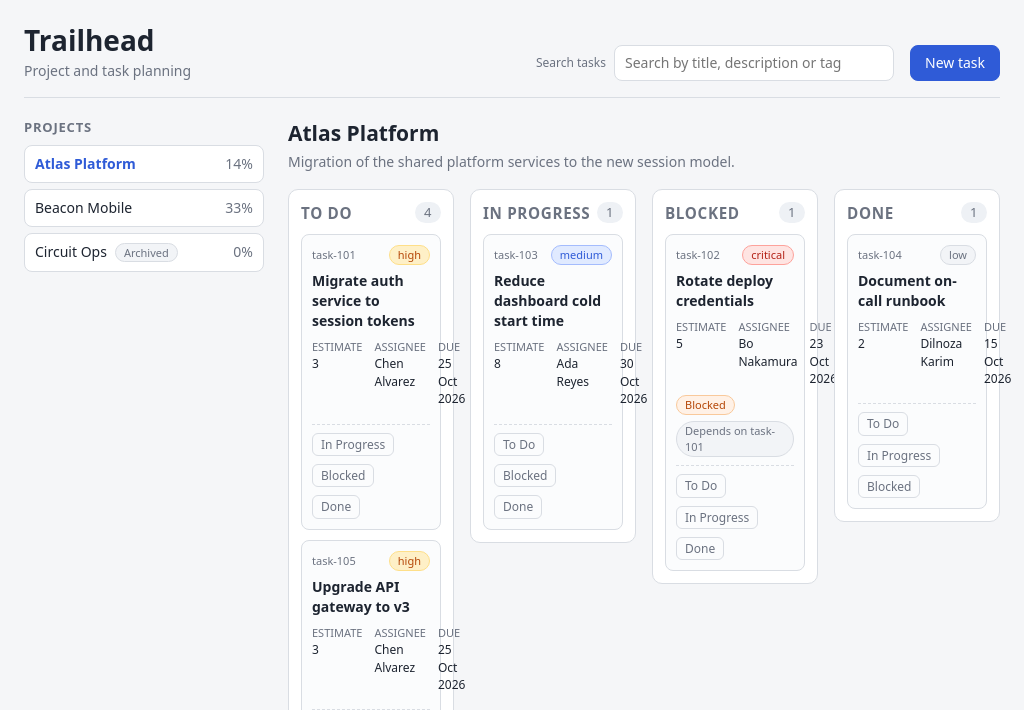
Test: task search › finds tasks by tag
Expected: the element with test id "task-card-task-101" is shown, [301,234,441,530]
In the search field labelled "Search tasks": (754, 63) [614,45,894,81], type "reporting"
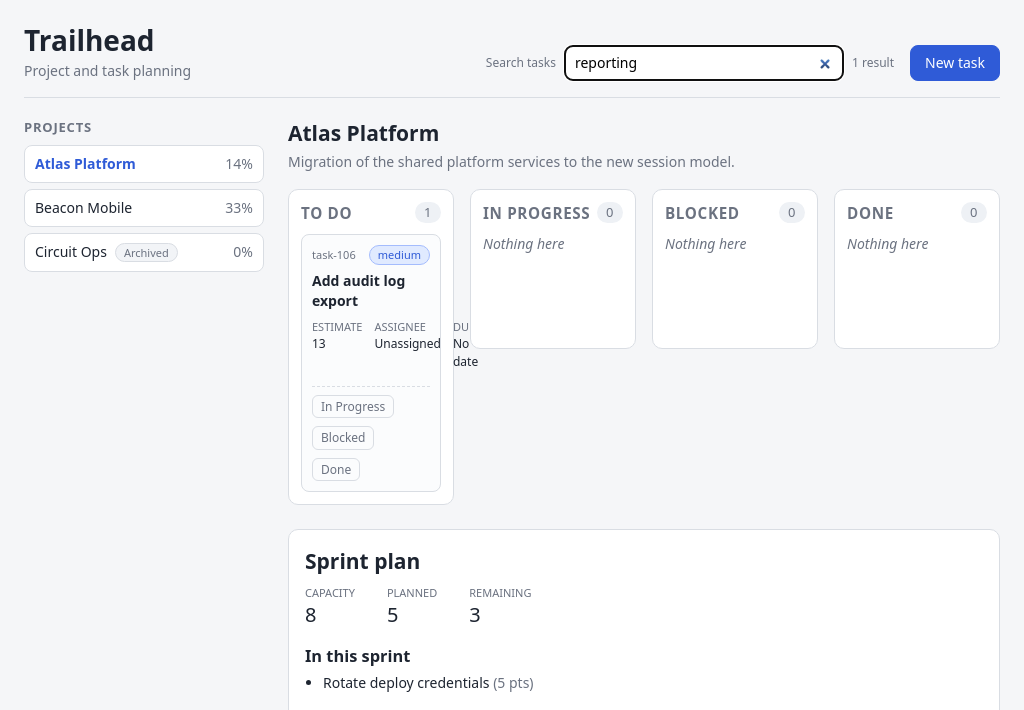
Expected: the element with test id "task-card-task-106" is shown, [301,234,441,492]
Now the text with test id "search-result-count" reads "1 result", box [852,54,894,71]
Now the element with test id "task-card-task-101" is gone
